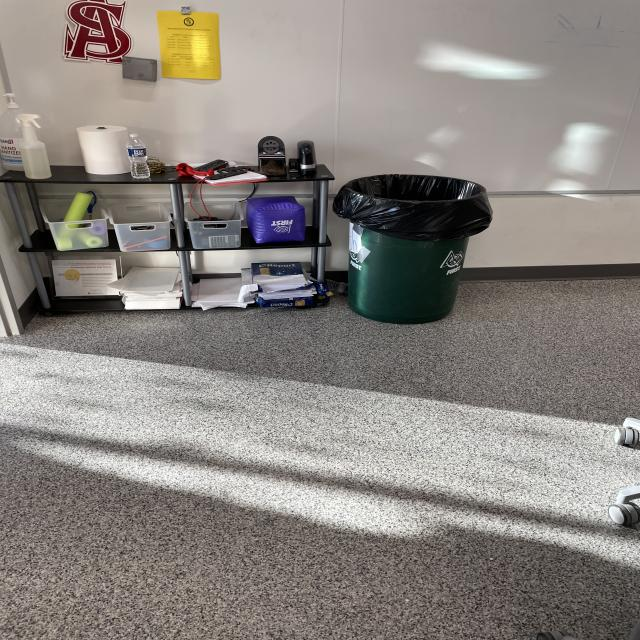frc_cube: (236, 194, 316, 249)
